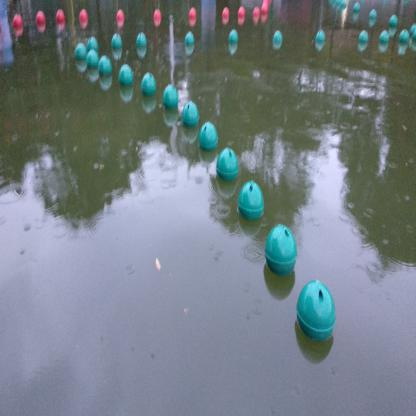green_buoy: (296, 277, 336, 358), (266, 223, 297, 283), (239, 180, 266, 230), (217, 146, 239, 190), (139, 72, 158, 108), (181, 103, 200, 137), (201, 125, 217, 160), (120, 66, 136, 99), (99, 55, 115, 86), (164, 84, 178, 116), (87, 46, 99, 78), (112, 31, 124, 60), (272, 32, 283, 58), (76, 42, 87, 68), (228, 29, 239, 51), (184, 33, 194, 57), (137, 31, 146, 55), (357, 33, 368, 52), (316, 31, 324, 50)
red_buoy: (12, 10, 24, 34), (77, 7, 88, 33), (35, 11, 46, 35), (52, 9, 64, 30), (253, 7, 261, 34), (153, 8, 162, 28), (220, 7, 228, 28), (116, 9, 124, 29), (187, 11, 195, 30), (236, 7, 244, 24)
